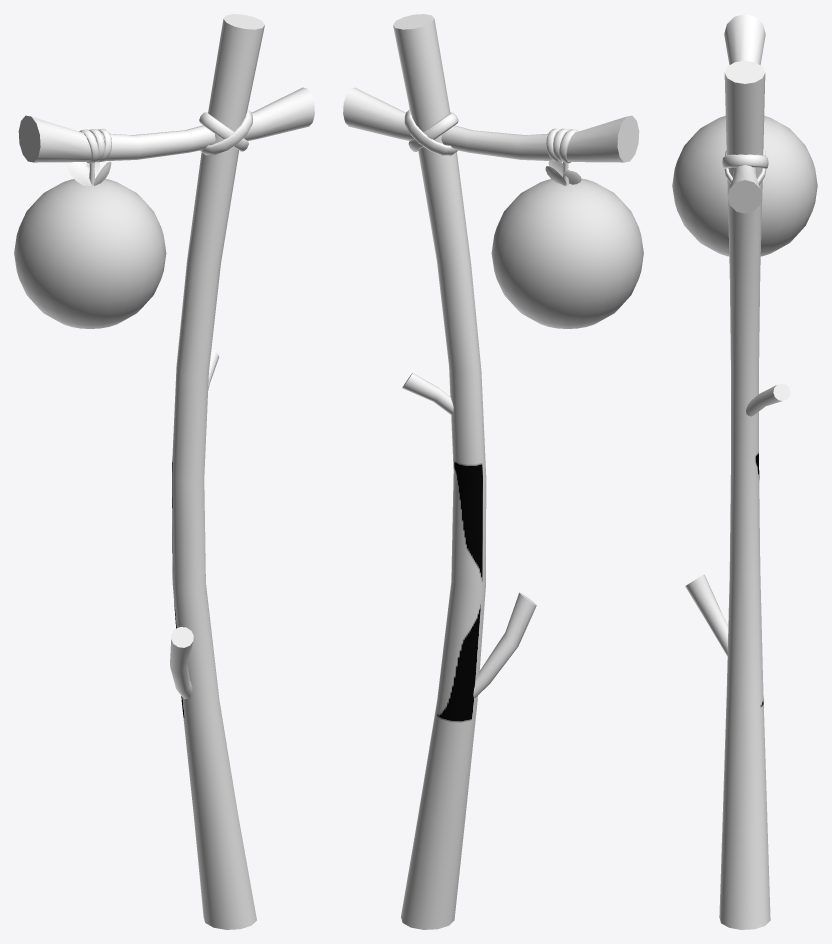
The model's file is Lamp_01.fbx.
The picture shows the model from 3 angles, left to right: view 1: azimuth 30°, elevation 25°; view 2: azimuth 150°, elevation 25°; view 3: azimuth 270°, elevation 25°; orthographic projection. The views are drawn at different scales.
Visible parts, largest first — view 1: Cylinder001, Sphere001; view 2: Cylinder001, Sphere001; view 3: Cylinder001, Sphere001.
Boxes of the visible parts, <box> form: Cylinder001: <box>18,14,314,929</box>; Sphere001: <box>14,179,166,328</box>; Cylinder001: <box>343,14,639,929</box>; Sphere001: <box>491,178,643,328</box>; Cylinder001: <box>685,14,790,929</box>; Sphere001: <box>672,116,817,256</box>.
Bounding box in the file's own units: 160 × 486 × 74.77.
